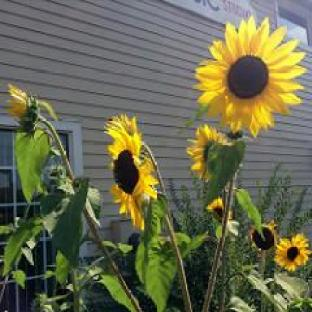sunflower: (179, 17, 307, 138)
